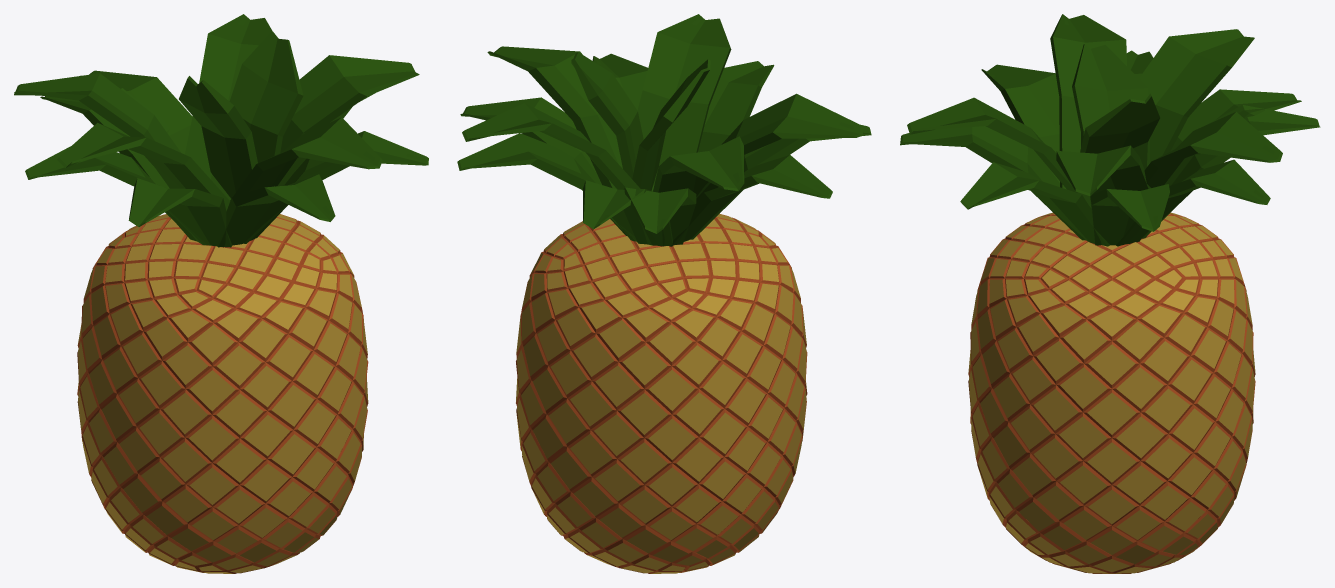
File: pineapple.glb
3 renders of one model, left to right at view 1: azimuth 30°, elevation 25°; view 2: azimuth 150°, elevation 25°; view 3: azimuth 270°, elevation 25°, orthographic.
Visible parts, largest first — view 1: Cube.019; view 2: Cube.019; view 3: Cube.019.
Part boxes in pixels (x1,y1,x2,y2): Cube.019: (14, 14, 428, 573); Cube.019: (457, 14, 871, 573); Cube.019: (900, 14, 1320, 573).
Size of the model in its own units: 0.1264 by 0.1651 by 0.1263.
